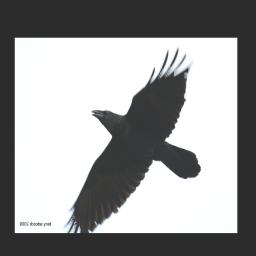Crow: (63, 44, 202, 233)
